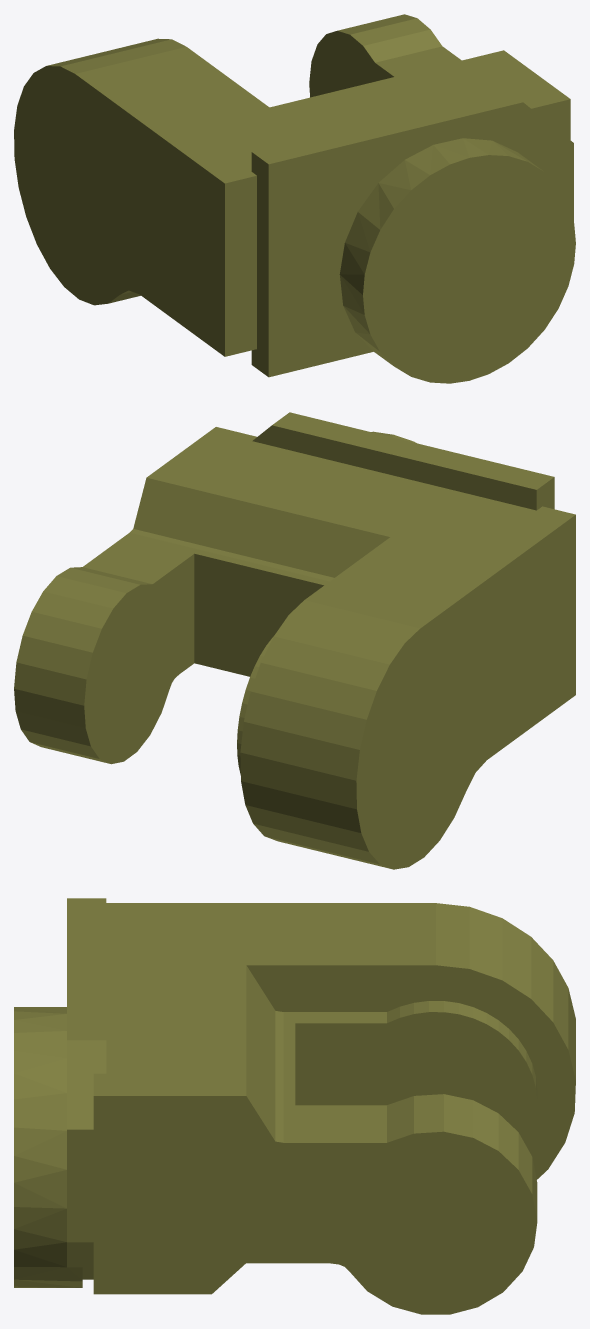
The model's file is RLEG_LINK0_mesh.dae.
The picture shows the model from 3 angles, top to bottom: view 1: azimuth 30°, elevation 25°; view 2: azimuth 150°, elevation 25°; view 3: azimuth 270°, elevation 25°; orthographic projection. The views are drawn at different scales.
Visible parts, largest first — view 1: RLEG_LINK0; view 2: RLEG_LINK0; view 3: RLEG_LINK0.
Boxes of the visible parts, x1=… form: RLEG_LINK0: x1=14, y1=14, x2=575, y2=383; RLEG_LINK0: x1=14, y1=412, x2=575, y2=869; RLEG_LINK0: x1=14, y1=898, x2=575, y2=1314.
Bounding box in the file's own units: 0.1461 × 0.098 × 0.1798.
